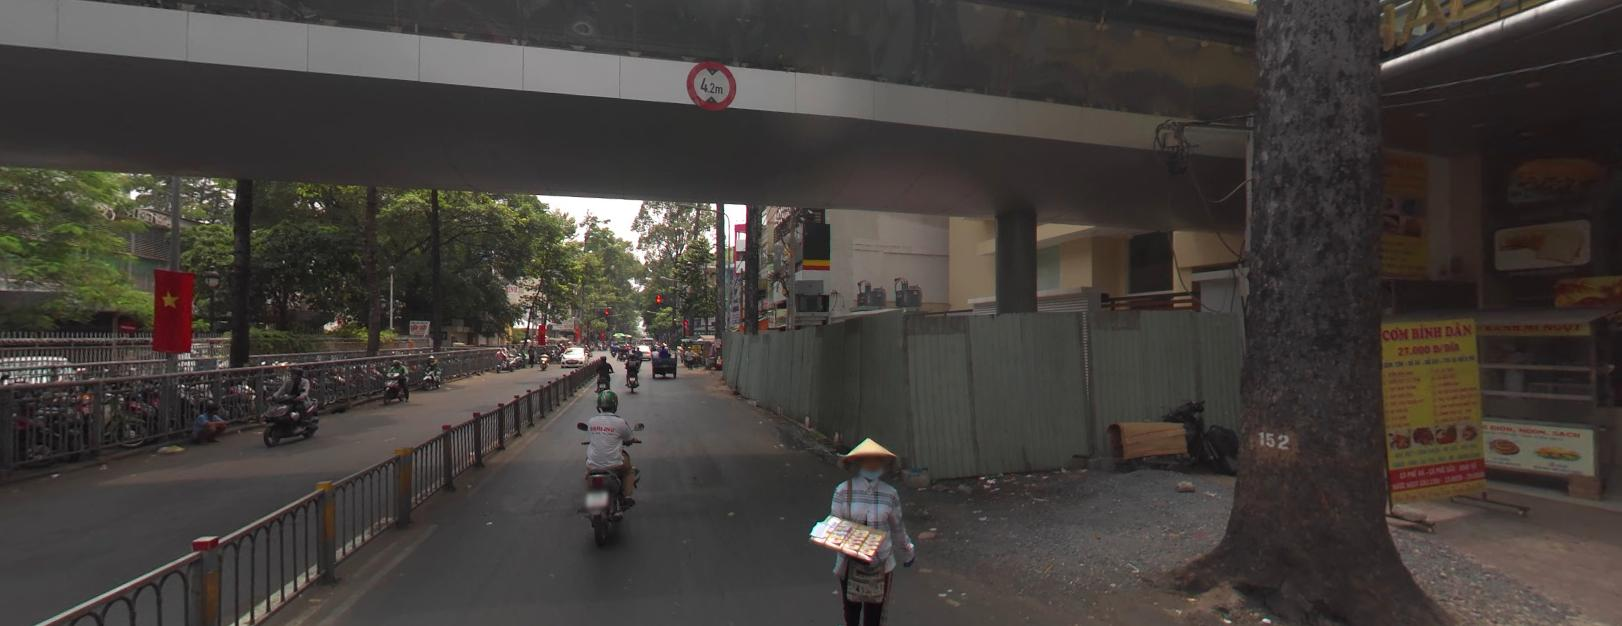Cam con lai: (685, 59, 735, 108)
